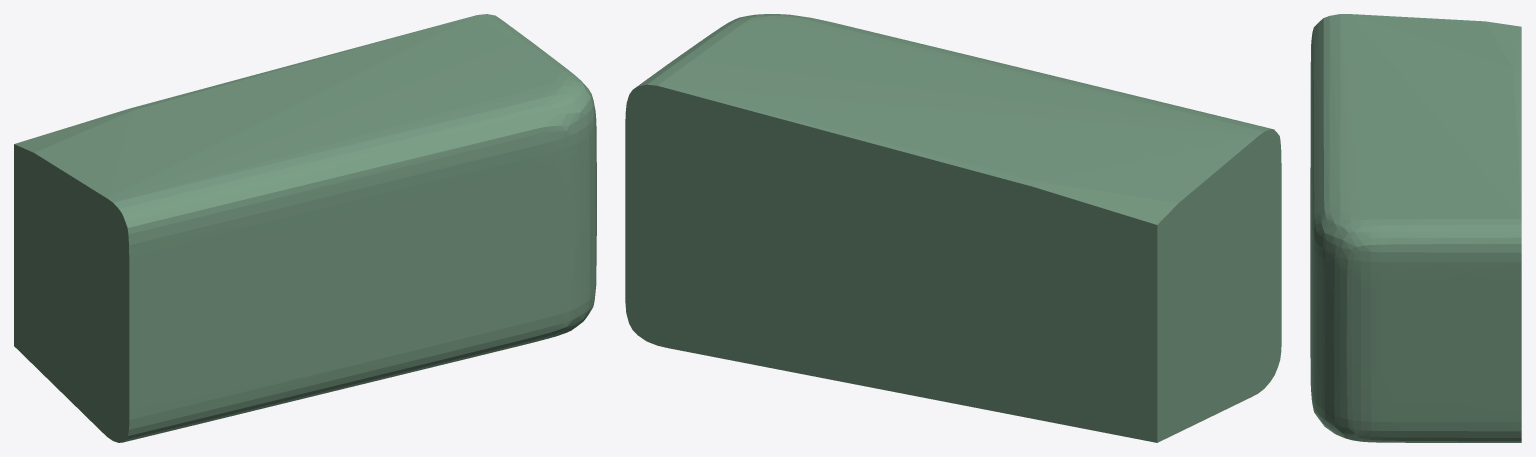
3 renders of one model, left to right at view 1: azimuth 30°, elevation 25°; view 2: azimuth 150°, elevation 25°; view 3: azimuth 270°, elevation 25°, orthographic. The views are drawn at different scales.
Size of the model in its own units: 0.0629 by 0.0294 by 0.0255.
